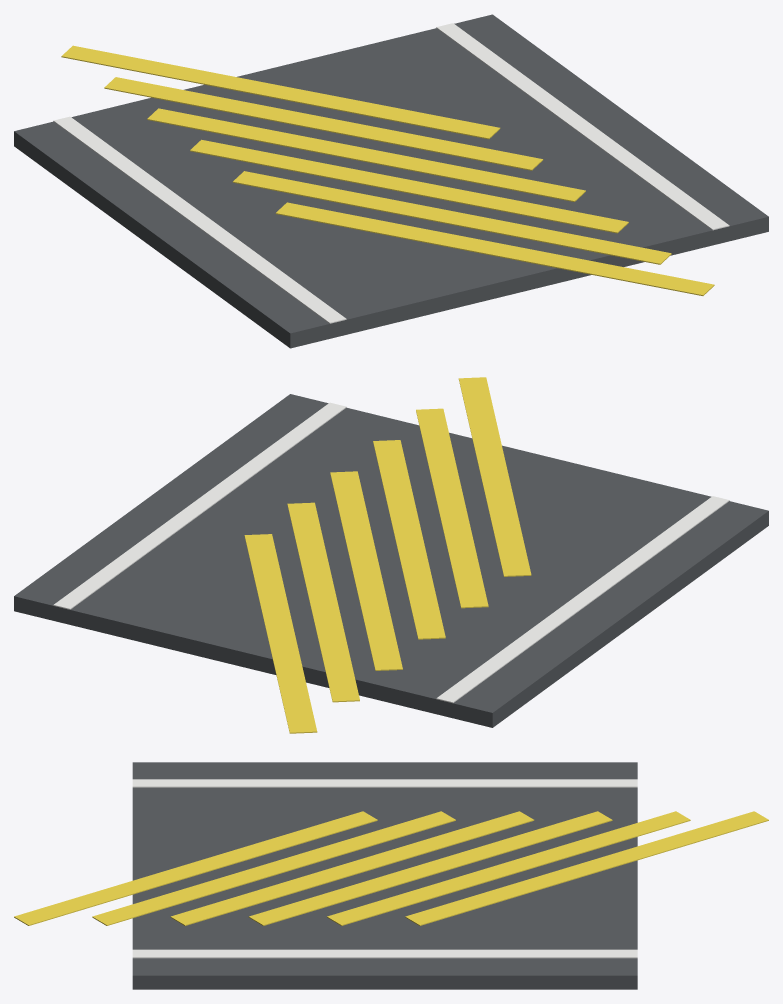
The model's file is ferry-terminal-and-harbour-crossing-ferry-terminal-and-4bf8332f__35623.glb.
The picture shows the model from 3 angles, top to bottom: view 1: azimuth 30°, elevation 25°; view 2: azimuth 150°, elevation 25°; view 3: azimuth 270°, elevation 25°; orthographic projection. The views are drawn at different scales.
Parts seen in each view (by area): view 1: ferry-terminal-and-harbour-crossing-marshalling-lane-tile-ch (×3); view 2: ferry-terminal-and-harbour-crossing-marshalling-lane-tile-ch (×3); view 3: ferry-terminal-and-harbour-crossing-marshalling-lane-tile-ch (×3).
Boxes of the visible parts, <box> form: ferry-terminal-and-harbour-crossing-marshalling-lane-tile-ch (×3): <box>14,14,768,348</box>; ferry-terminal-and-harbour-crossing-marshalling-lane-tile-ch (×3): <box>14,377,768,733</box>; ferry-terminal-and-harbour-crossing-marshalling-lane-tile-ch (×3): <box>14,762,768,989</box>.
Bounding box in the file's own units: 4 × 0.1281 × 5.98.
